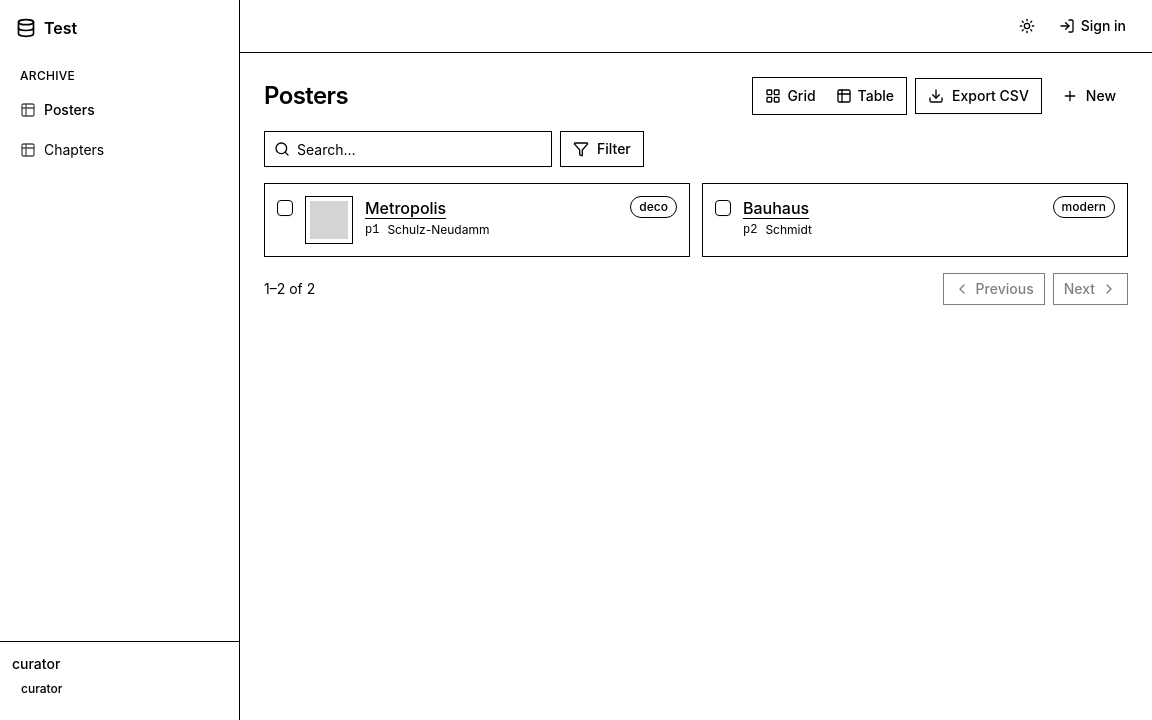
Scenario: the list view › renders cards with a Grid/Table toggle and opens a split inspector without sending UI params to the API
Check: the text "Schulz-Neudamm" is shown, box [387, 222, 489, 238]
Click the button "Metropolis" at coordinates (406, 208), box [365, 196, 446, 220]
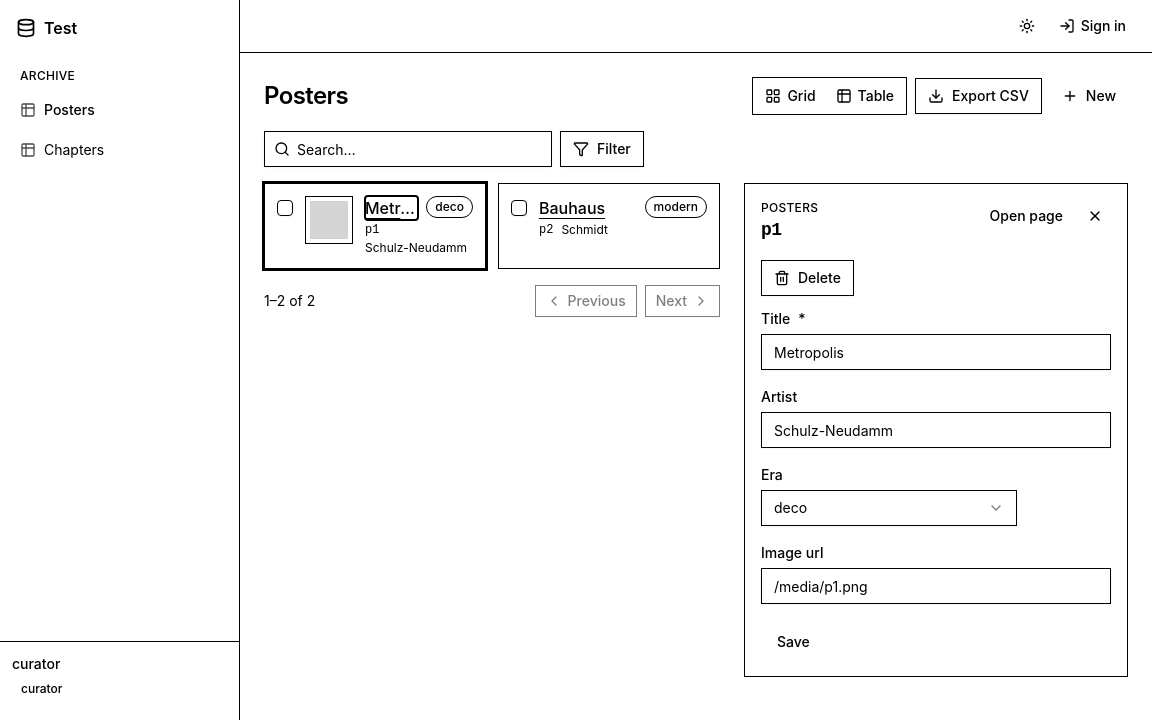
Replace the text in the field labelled "Title *" with "Metropolis Restored" at coordinates (936, 352), box [761, 334, 1111, 370]
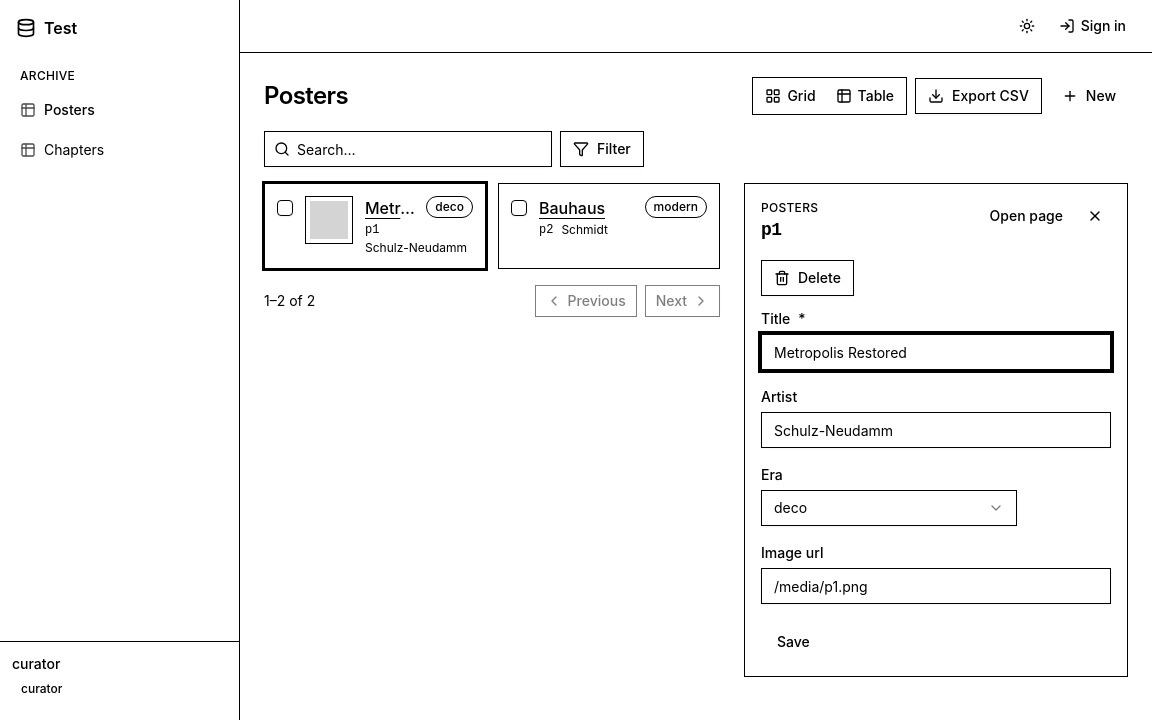
Click the button "Save" at coordinates (793, 642), box [761, 624, 826, 660]
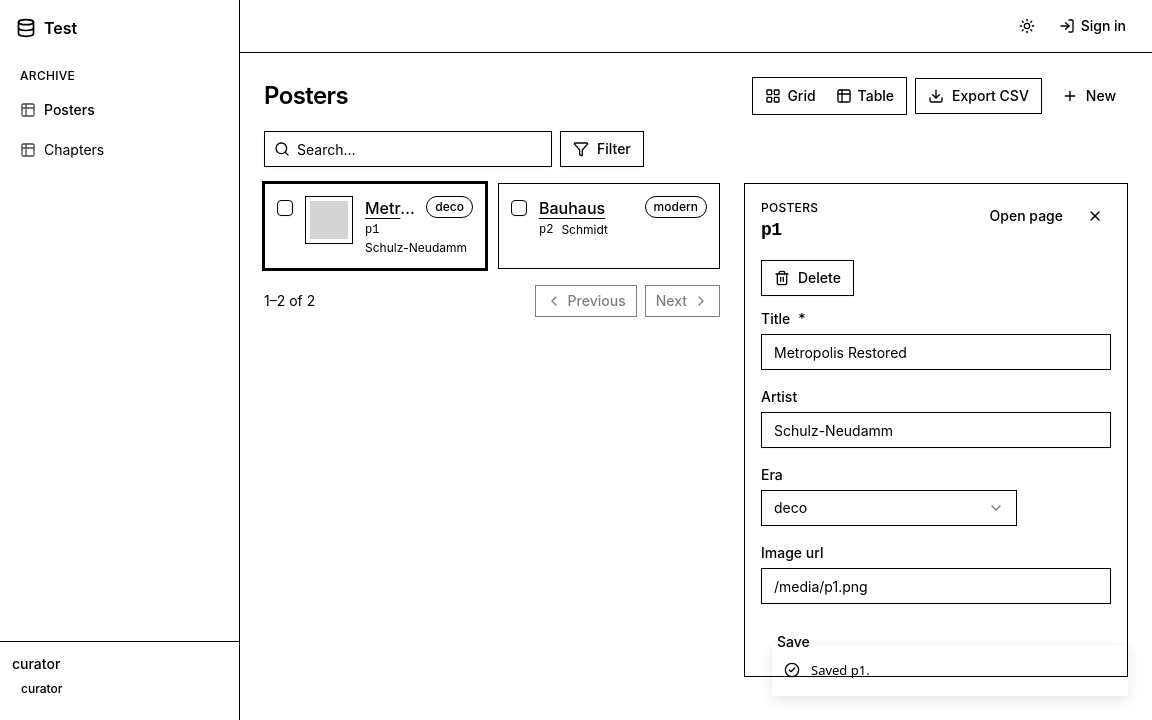
Check: the button "Metropolis Restored" is shown, box [365, 196, 418, 220]
Click the button named "Close inspector" at coordinates (1095, 216), box [1079, 200, 1111, 232]
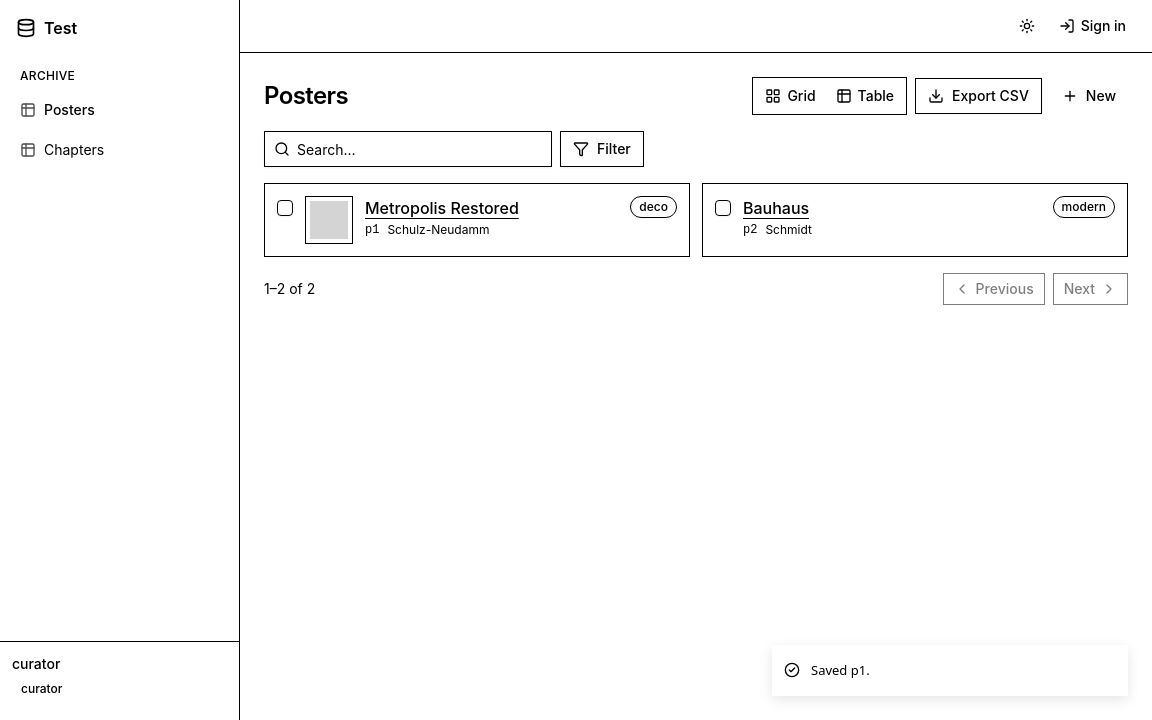
Click the button "Table" at coordinates (865, 96), box [826, 80, 904, 112]
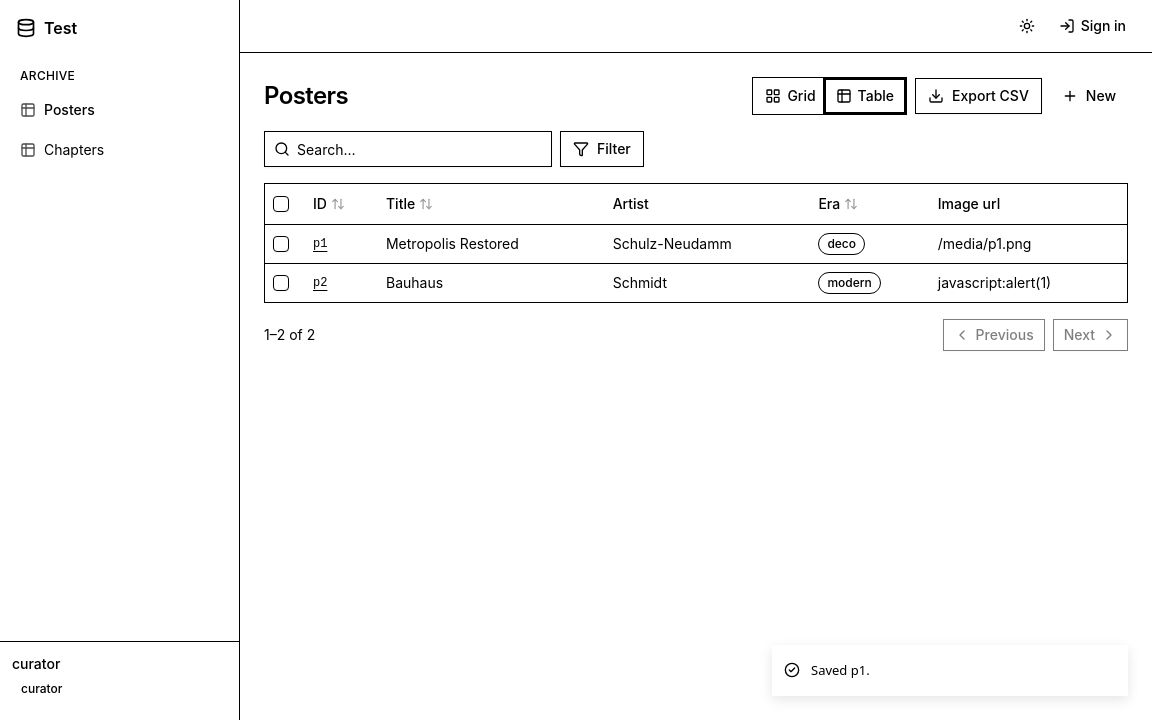
Check: the table is shown, box [265, 184, 1127, 302]
